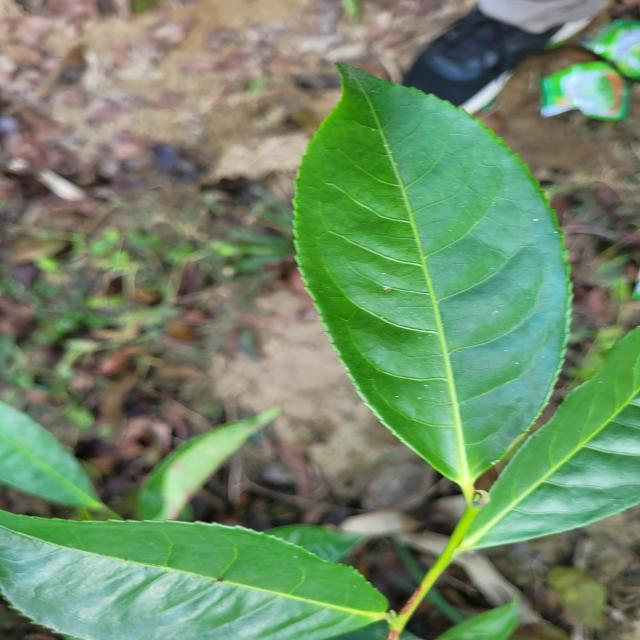Category D(7+ days, Not for Tea): (271, 45, 587, 490)
